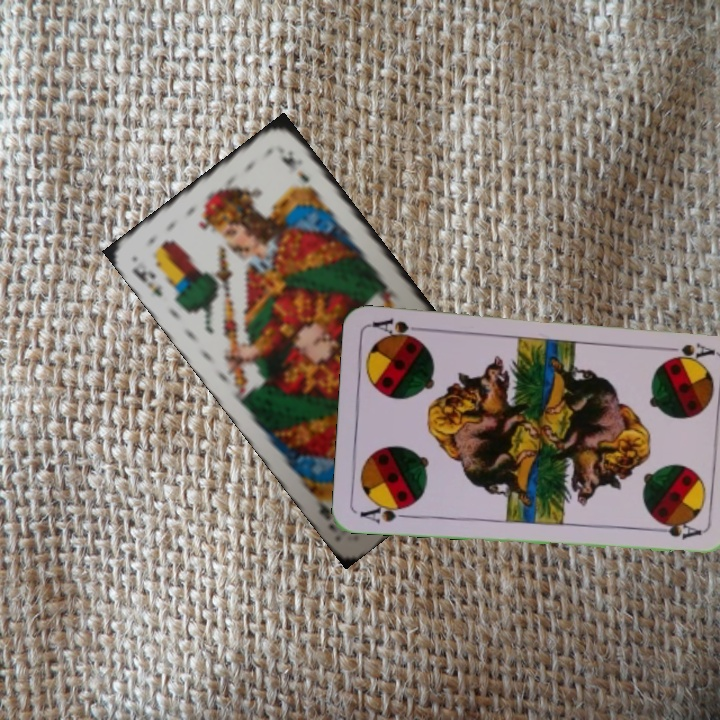EK: (127, 264, 165, 300)
SA: (356, 499, 416, 526), (656, 339, 716, 359)
